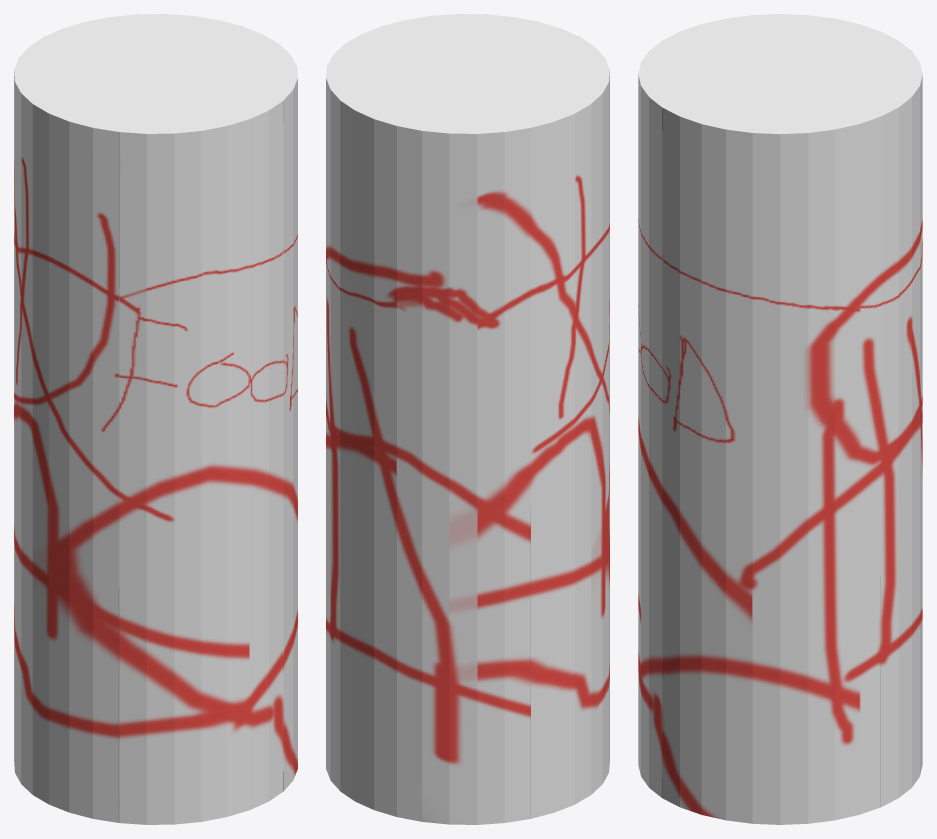
Rendered from Candle.obj.
3 views of the same model, side by side, from view 1: azimuth 30°, elevation 25°; view 2: azimuth 150°, elevation 25°; view 3: azimuth 270°, elevation 25° (orthographic).
Visible parts, largest first — view 1: Cylinder_Cylinder.001; view 2: Cylinder_Cylinder.001; view 3: Cylinder_Cylinder.001.
Part boxes in pixels (box(x1,y1,x2,y2)): Cylinder_Cylinder.001: box(14, 14, 297, 824); Cylinder_Cylinder.001: box(326, 14, 609, 824); Cylinder_Cylinder.001: box(638, 14, 922, 824).
Bounding box in the file's own units: 0.1218 × 0.3264 × 0.1218.
